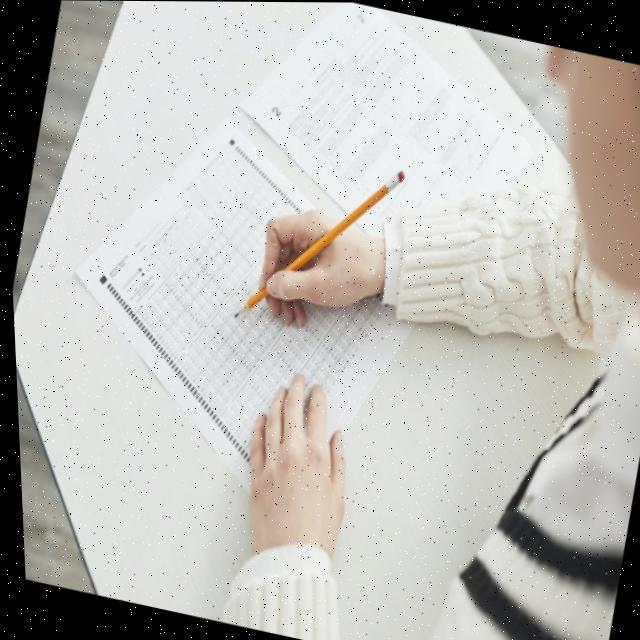pencil: (225, 164, 409, 319)
